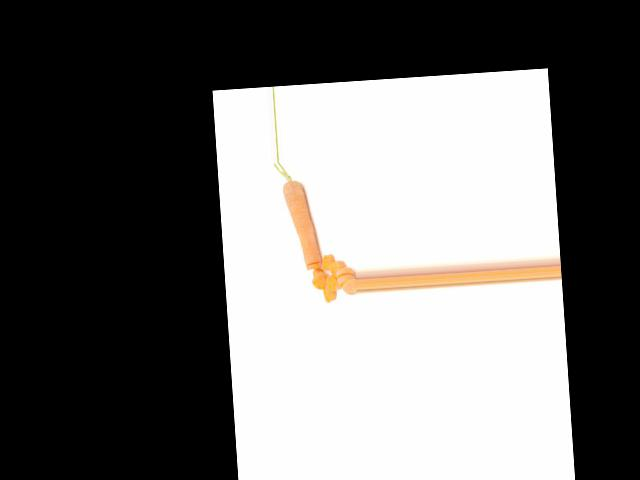carrot: (281, 174, 329, 275)
